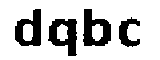b: (80, 7, 115, 51)
c: (117, 17, 147, 51)
d: (9, 6, 45, 51)
q: (48, 14, 80, 60)
